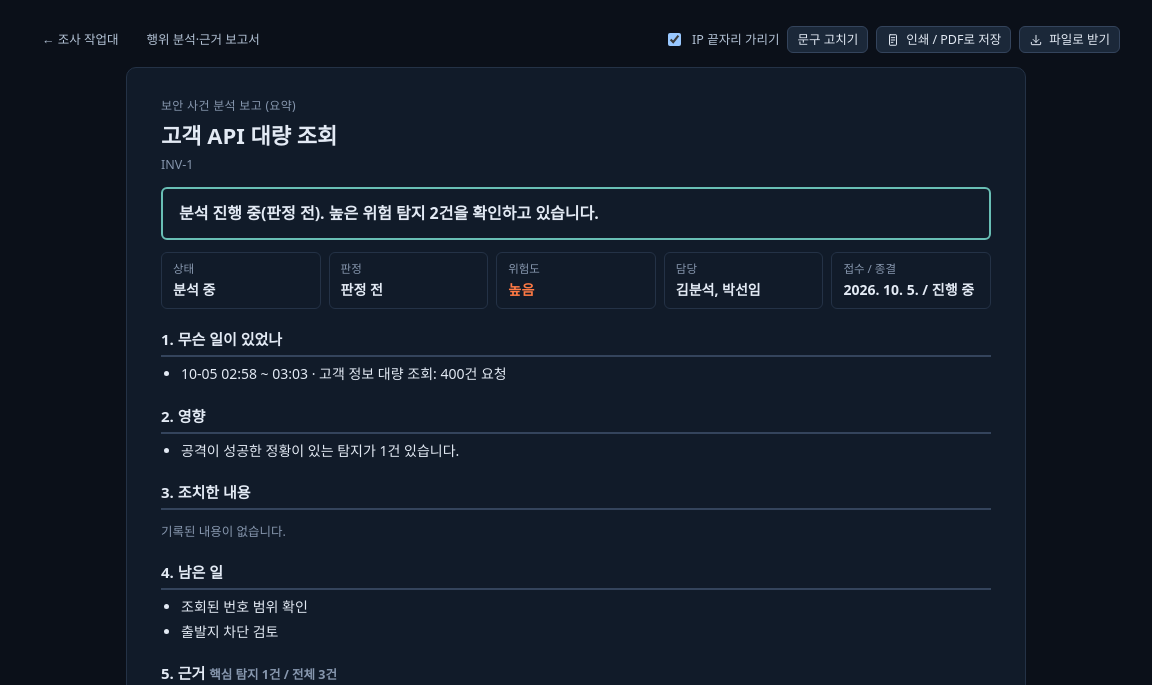
Test case: Report summary › saves only the sections that were rewritten
Click the button "문구 고치기": point(828, 40) top-left (787, 26), bottom-right (868, 53)
(page scrolled)
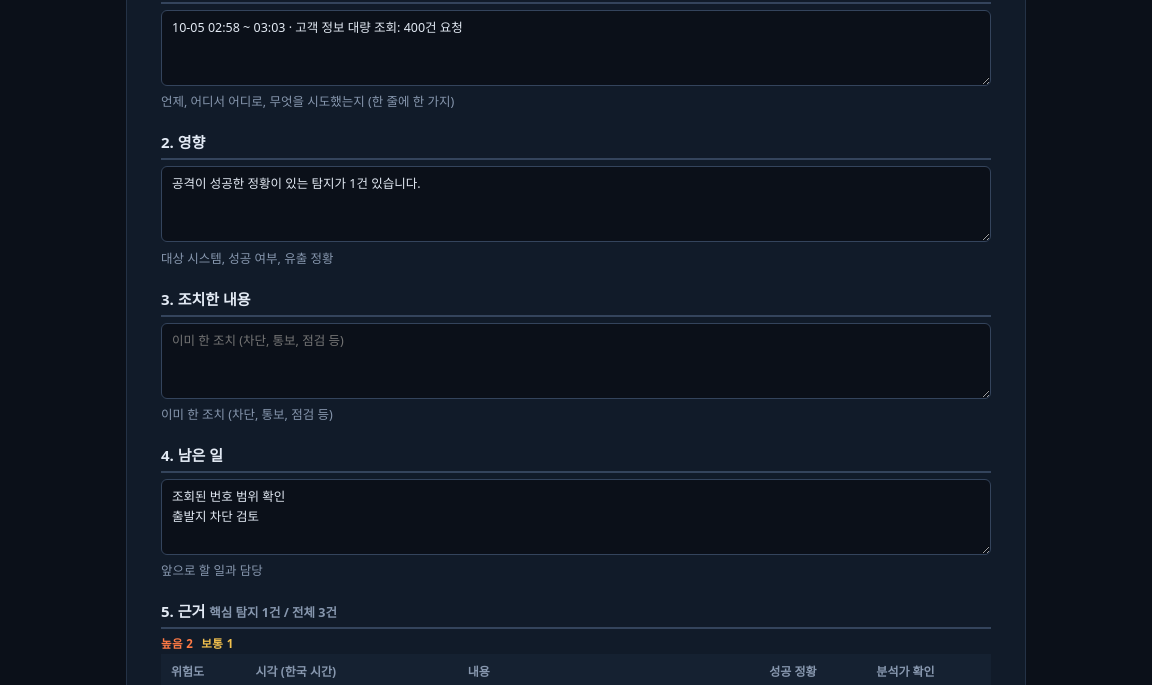
In the text box named "3. 조치한 내용": point(576, 361) top-left (161, 323), bottom-right (991, 399), type "방화벽 차단 완료"
(page scrolled)
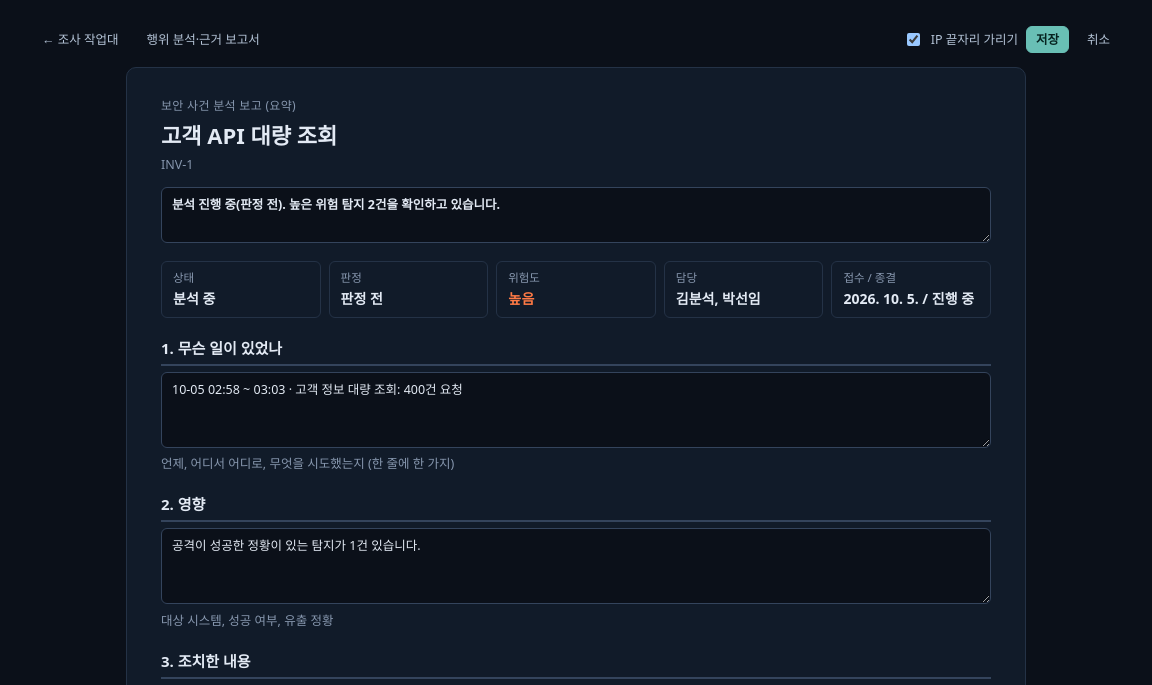
Click the button "저장": point(1048, 40) top-left (1026, 26), bottom-right (1069, 53)
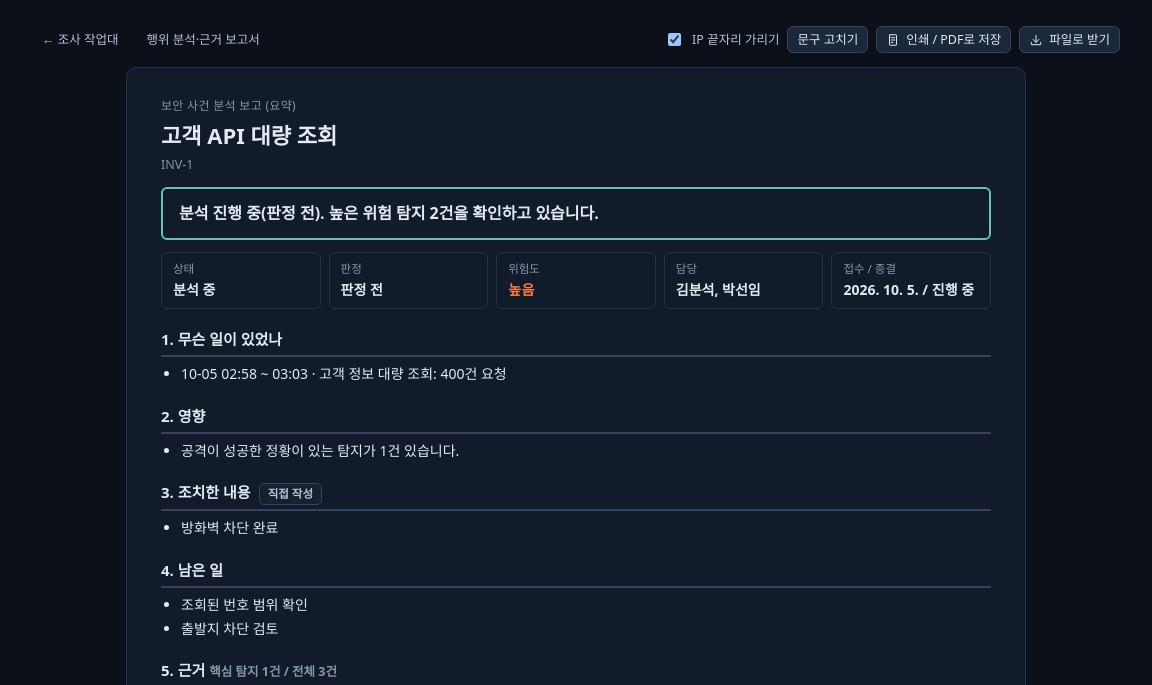
Expected: the list item "방화벽 차단 완료" is shown, top-left (181, 518), bottom-right (278, 537)
Expected: the text "직접 작성" is shown, top-left (259, 483), bottom-right (322, 505)
